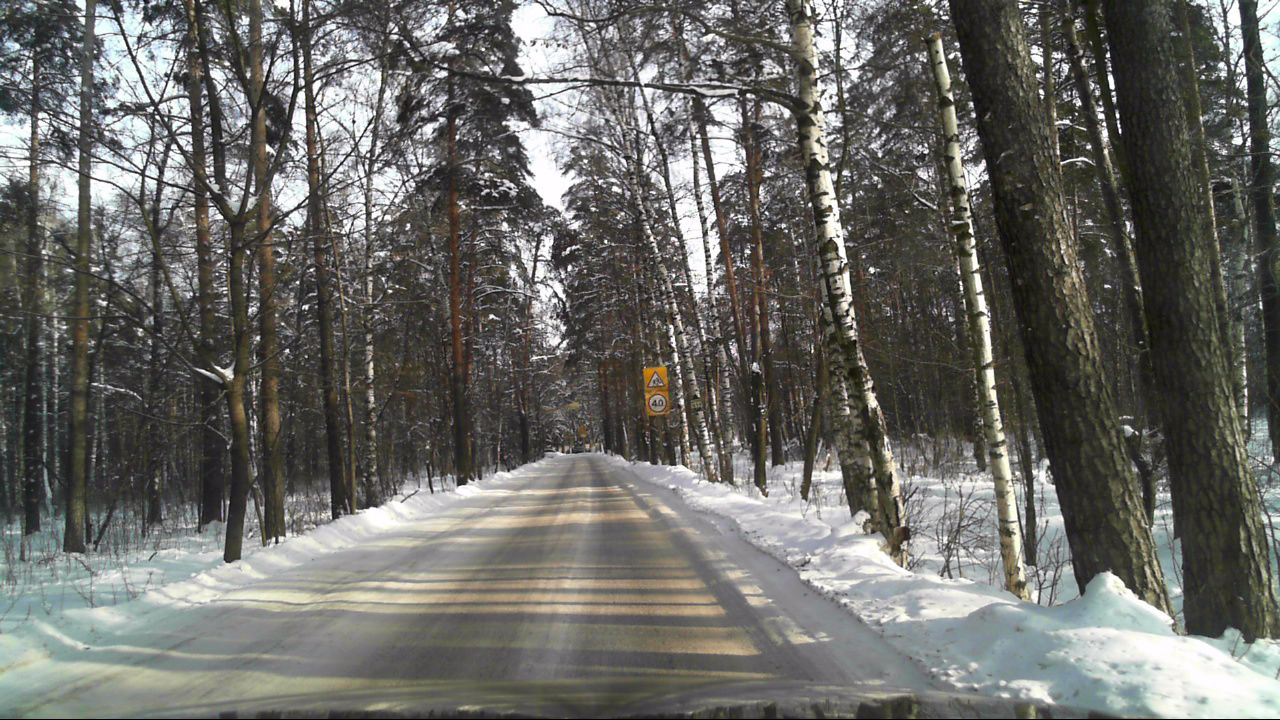speed_warning_40: (644, 391, 668, 416)
